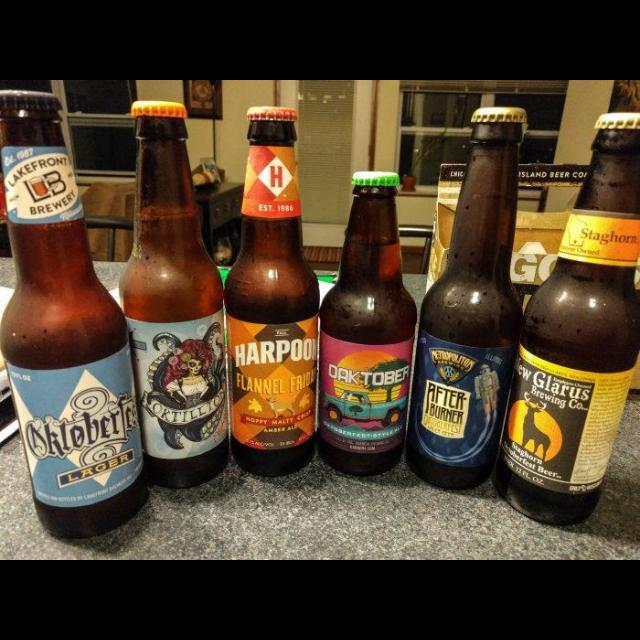garrafa de vidro: (0, 89, 150, 539), (496, 112, 640, 528), (407, 107, 528, 491), (115, 100, 229, 490), (227, 104, 317, 476), (318, 171, 418, 477)
